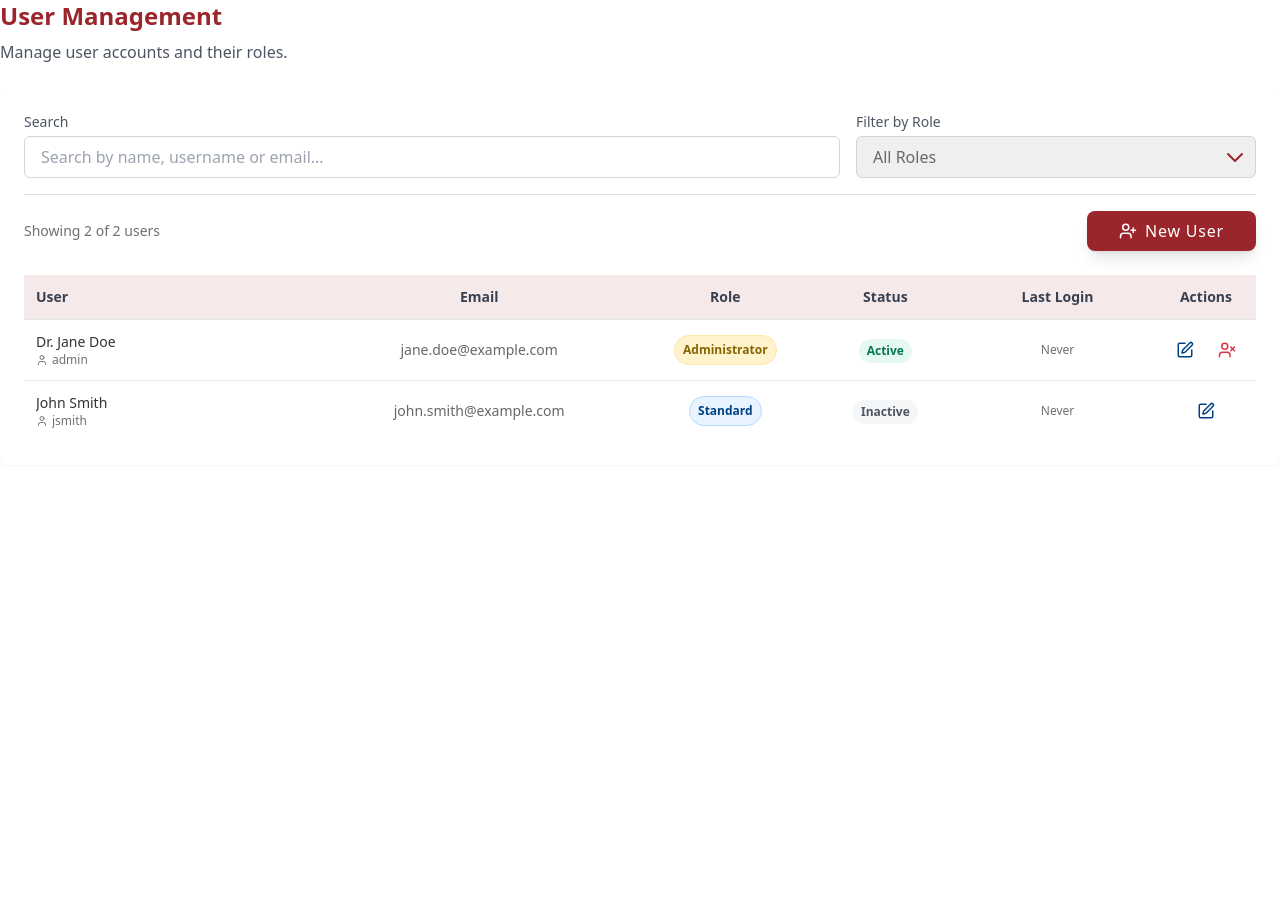
Test case: DashboardUserManagement › keeps the role code when a user is edited
This screenshot has width=1280, height=900.
Later steps or results of the test are not shown.
Expected: the text "Dr. Jane Doe" is shown, top-left (36, 332), bottom-right (116, 351)
Click the button named "Edit Dr. Jane Doe" at {"x": 1185, "y": 350}, box top-left (1168, 333), bottom-right (1202, 367)
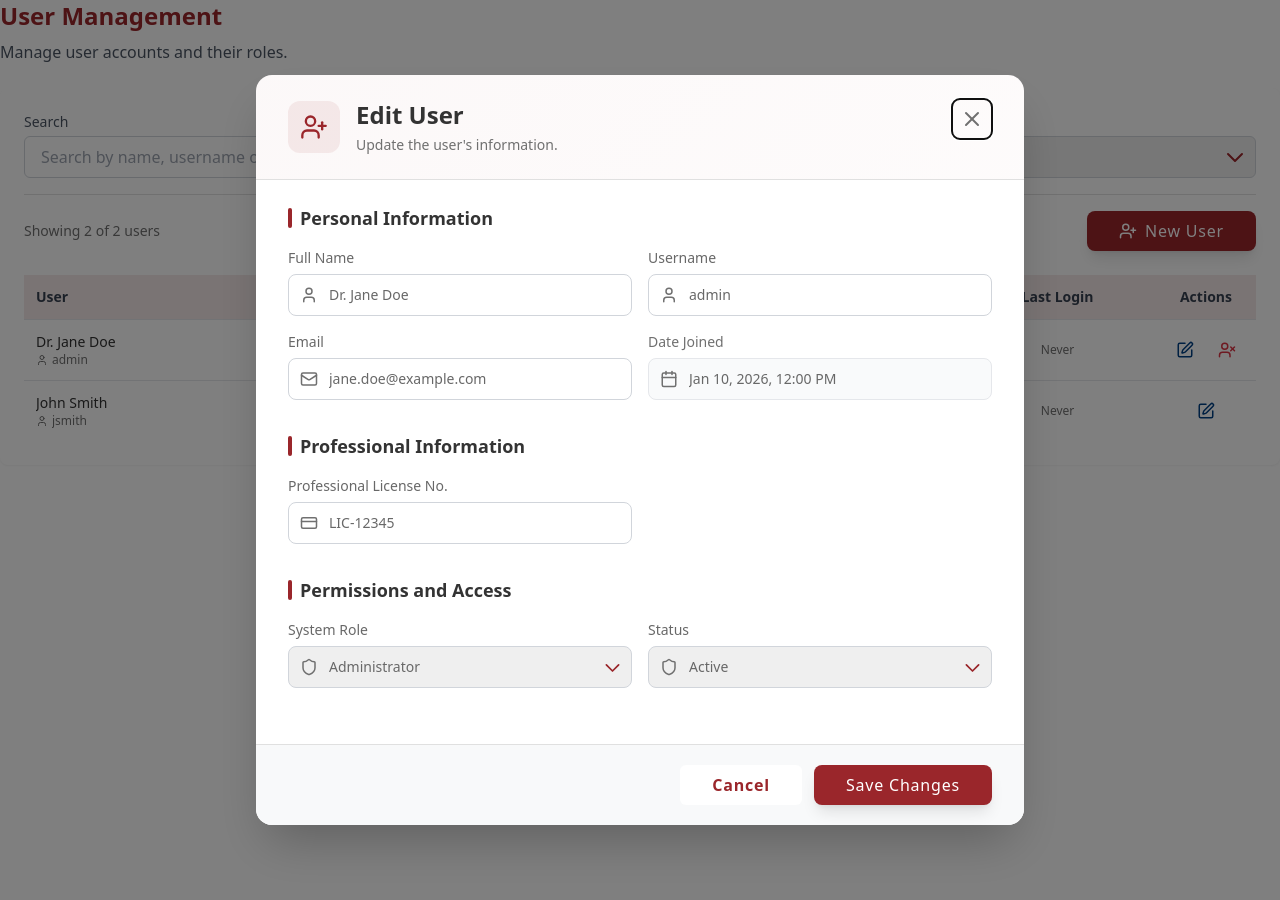
Expected: the heading "Edit User" is shown, top-left (356, 98), bottom-right (464, 131)
Expected: the dropdown labelled "System Role" shows "Administrator", top-left (288, 646), bottom-right (632, 688)
